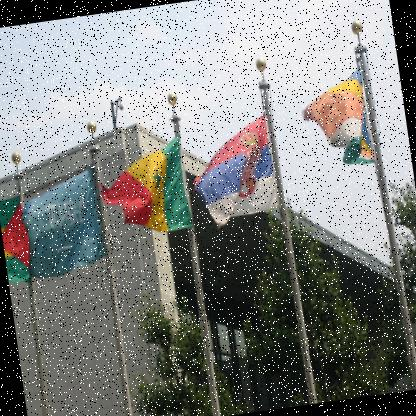rs: (185, 114, 283, 232)
